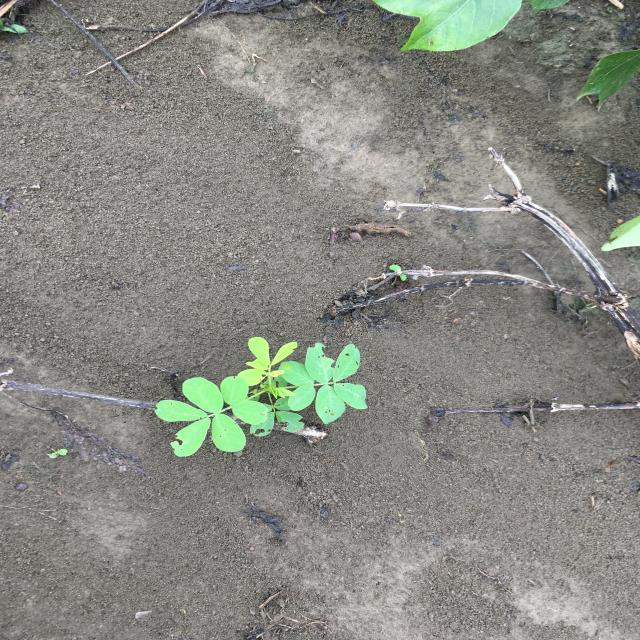Sicklepod: (154, 336, 368, 457)
